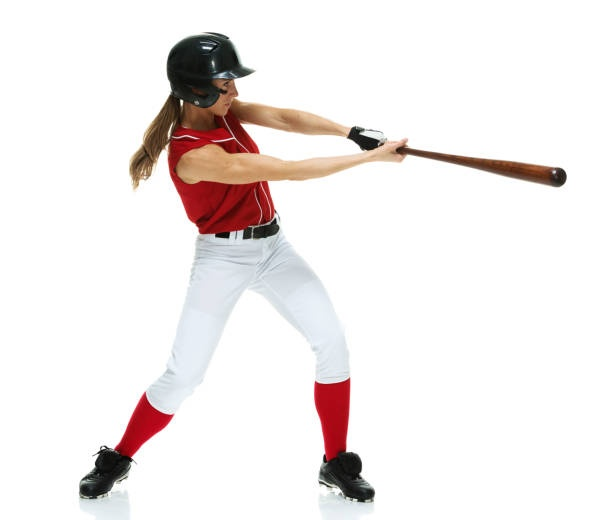bita: (389, 133, 572, 188)
